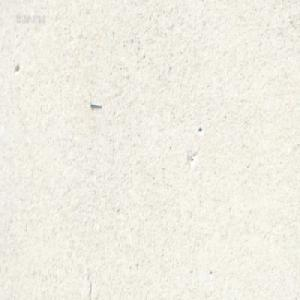Nail: (88, 99, 102, 107)
